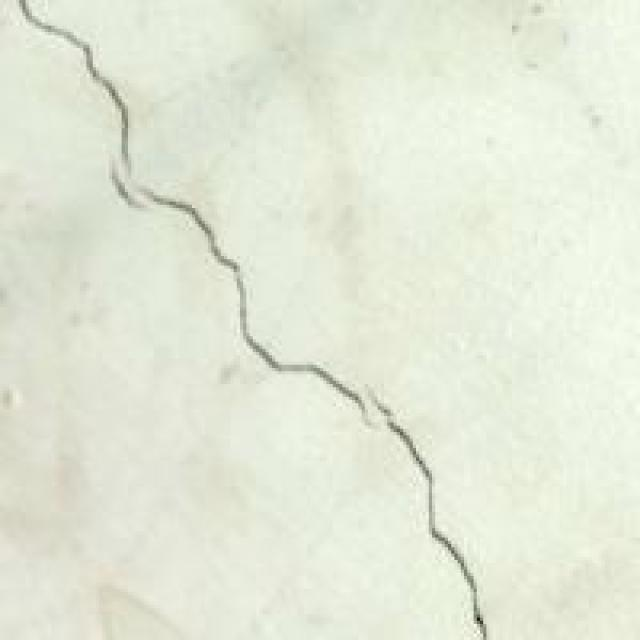Crack: (26, 0, 499, 637)
